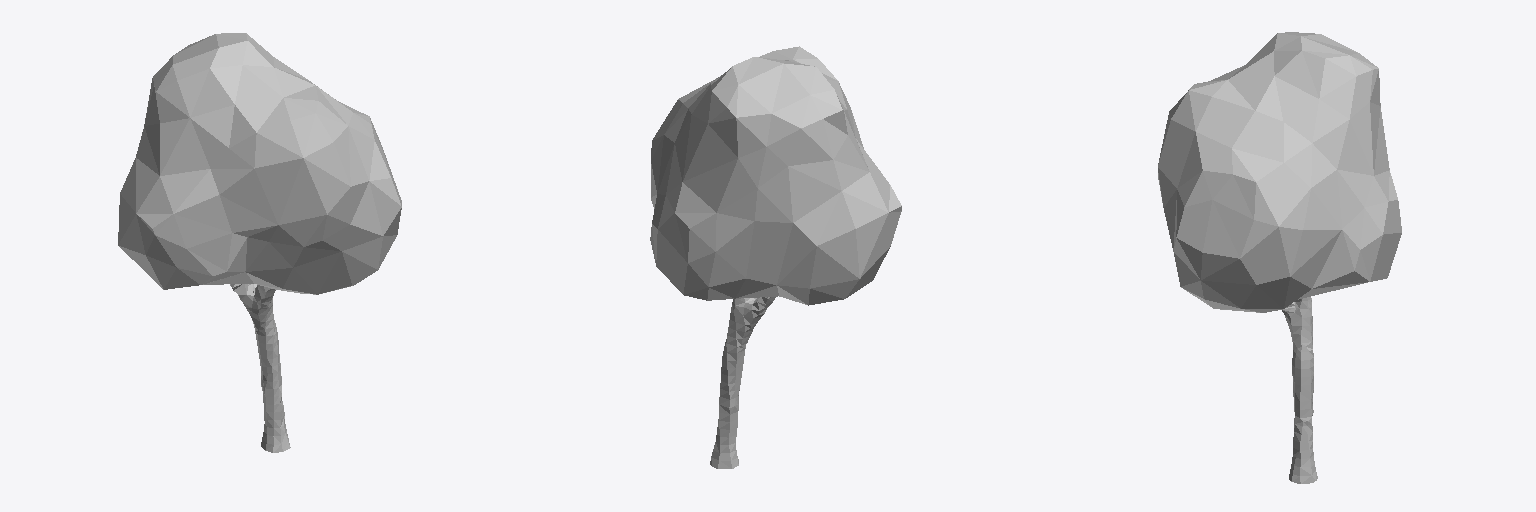
Rendered from tree3.obj.
3 renders of one model, left to right at view 1: azimuth 30°, elevation 25°; view 2: azimuth 150°, elevation 25°; view 3: azimuth 270°, elevation 25°, orthographic.
Parts seen in each view (by area): view 1: Tree3; view 2: Tree3; view 3: Tree3.
Part boxes in pixels (x1,y1,x2,y2): Tree3: (118,33,401,452); Tree3: (650,46,901,468); Tree3: (1158,32,1401,483).
Bounding box in the file's own units: 6.1 × 10.03 × 5.38.